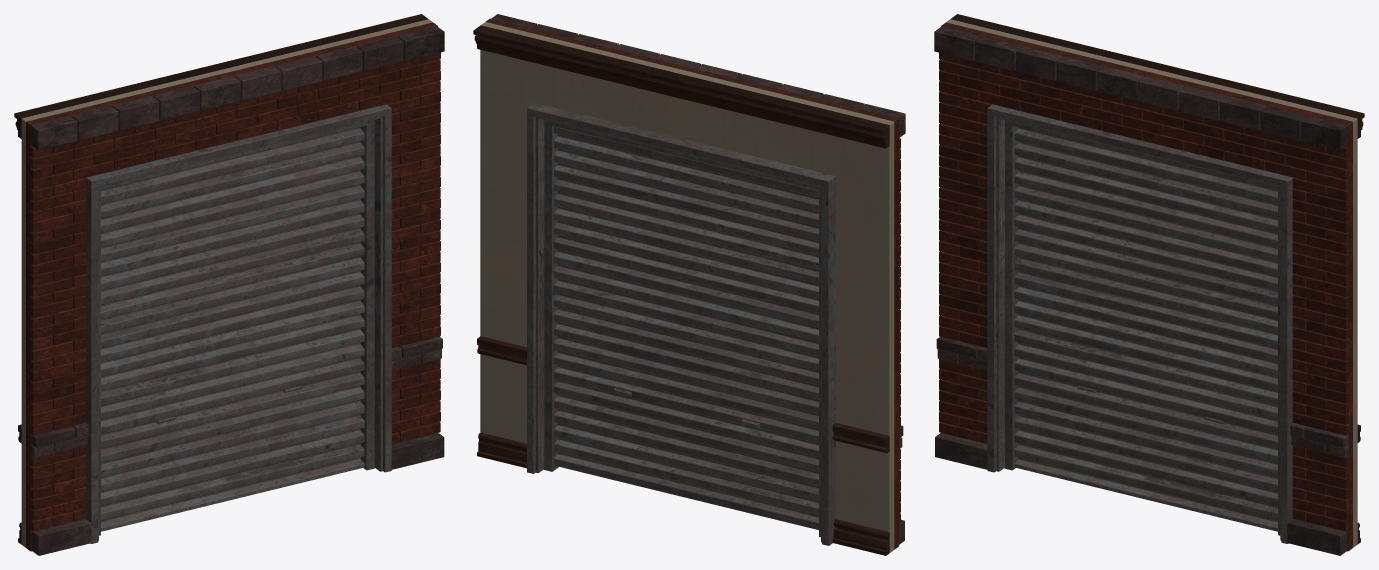
Rendered from SK1 GARAGE DOOR.fbx.
The picture shows the model from 3 angles, left to right: view 1: azimuth 30°, elevation 25°; view 2: azimuth 150°, elevation 25°; view 3: azimuth 330°, elevation 25°; orthographic projection.
Parts seen in each view (by area): view 1: SK1 GARAGE DOOR.001; view 2: SK1 GARAGE DOOR.001; view 3: SK1 GARAGE DOOR.001.
Boxes of the visible parts, <box> form: SK1 GARAGE DOOR.001: <box>14,14,444,555</box>; SK1 GARAGE DOOR.001: <box>473,14,905,555</box>; SK1 GARAGE DOOR.001: <box>934,14,1364,555</box>.
Size of the model in its own units: 400 by 401 by 39.98.
